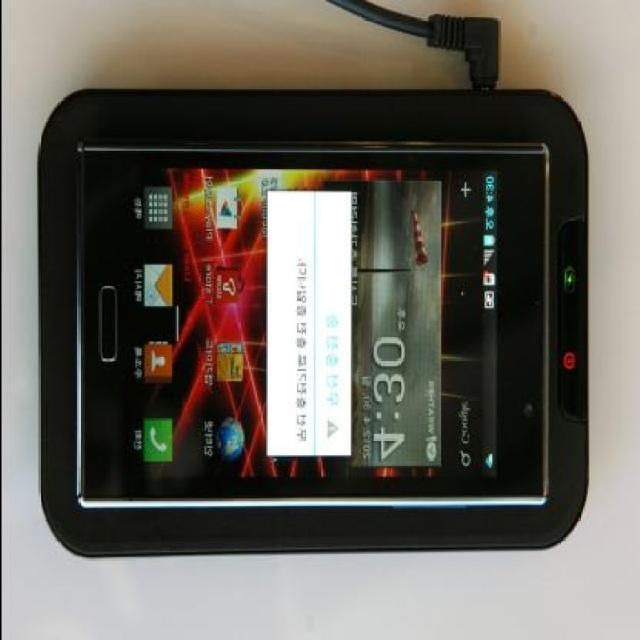phone: (42, 88, 584, 559)
